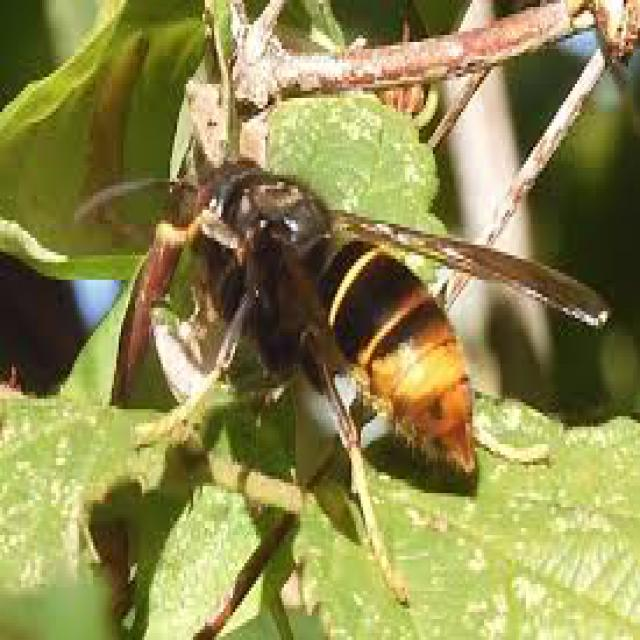Vespa Velutina: (62, 142, 615, 616)
